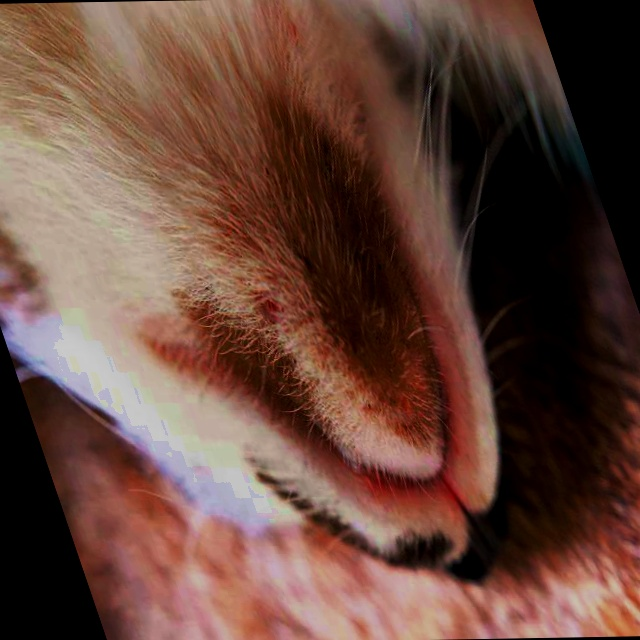acne: (234, 125, 434, 349)
